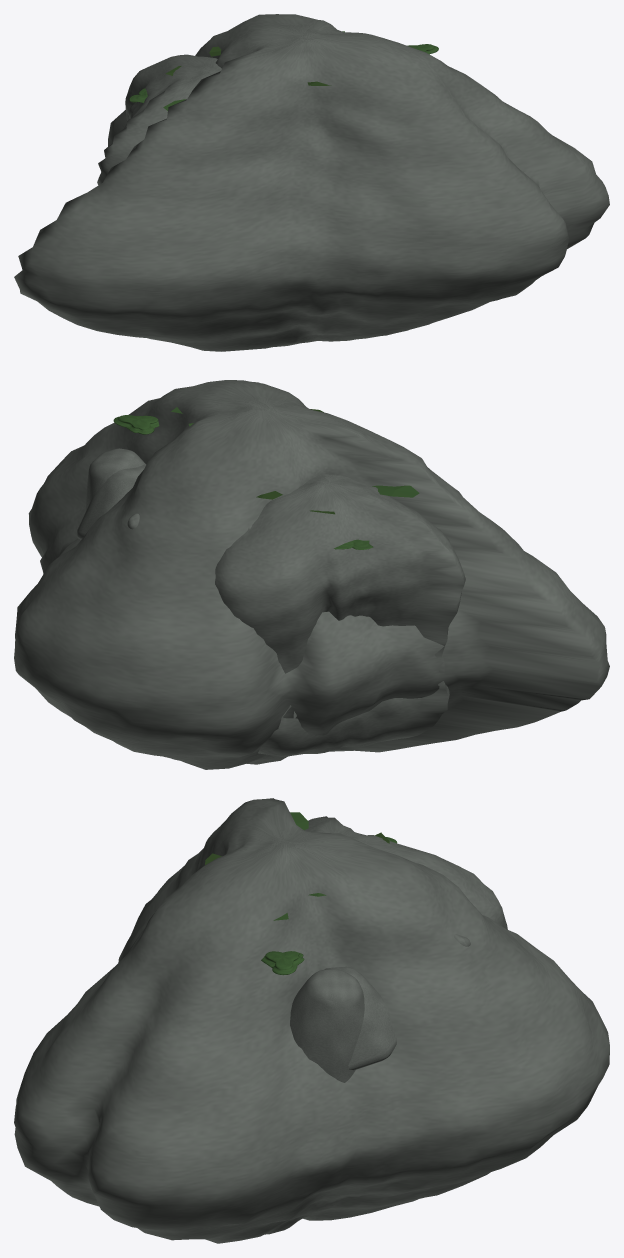
Rendered from rock_medium.glb.
3 views of the same model, one above another, from view 1: azimuth 30°, elevation 25°; view 2: azimuth 150°, elevation 25°; view 3: azimuth 270°, elevation 25° (orthographic). The views are drawn at different scales.
Visible parts, largest first — view 1: rock_medium_core, rock_medium_fracture; view 2: rock_medium_core, rock_medium_fracture, rock_medium_shard_05, rock_medium_shard_01, rock_medium_moss_02; view 3: rock_medium_core, rock_medium_shard_01, rock_medium_fracture, rock_medium_shard_05, rock_medium_moss_02.
Part boxes in pixels (x1,y1,x2,y2): rock_medium_core: (14, 14, 609, 351); rock_medium_fracture: (97, 54, 221, 185); rock_medium_core: (14, 380, 609, 769); rock_medium_fracture: (215, 474, 465, 757); rock_medium_shard_05: (76, 464, 145, 539); rock_medium_shard_01: (84, 448, 145, 513); rock_medium_moss_02: (113, 415, 159, 434); rock_medium_core: (14, 798, 609, 1243); rock_medium_shard_01: (290, 969, 364, 1082); rock_medium_fracture: (304, 816, 507, 929); rock_medium_shard_05: (324, 966, 396, 1070); rock_medium_moss_02: (261, 951, 304, 975).
Size of the model in its own units: 0.8685 by 0.4642 by 0.6777.
3 materials, 3 textured.
